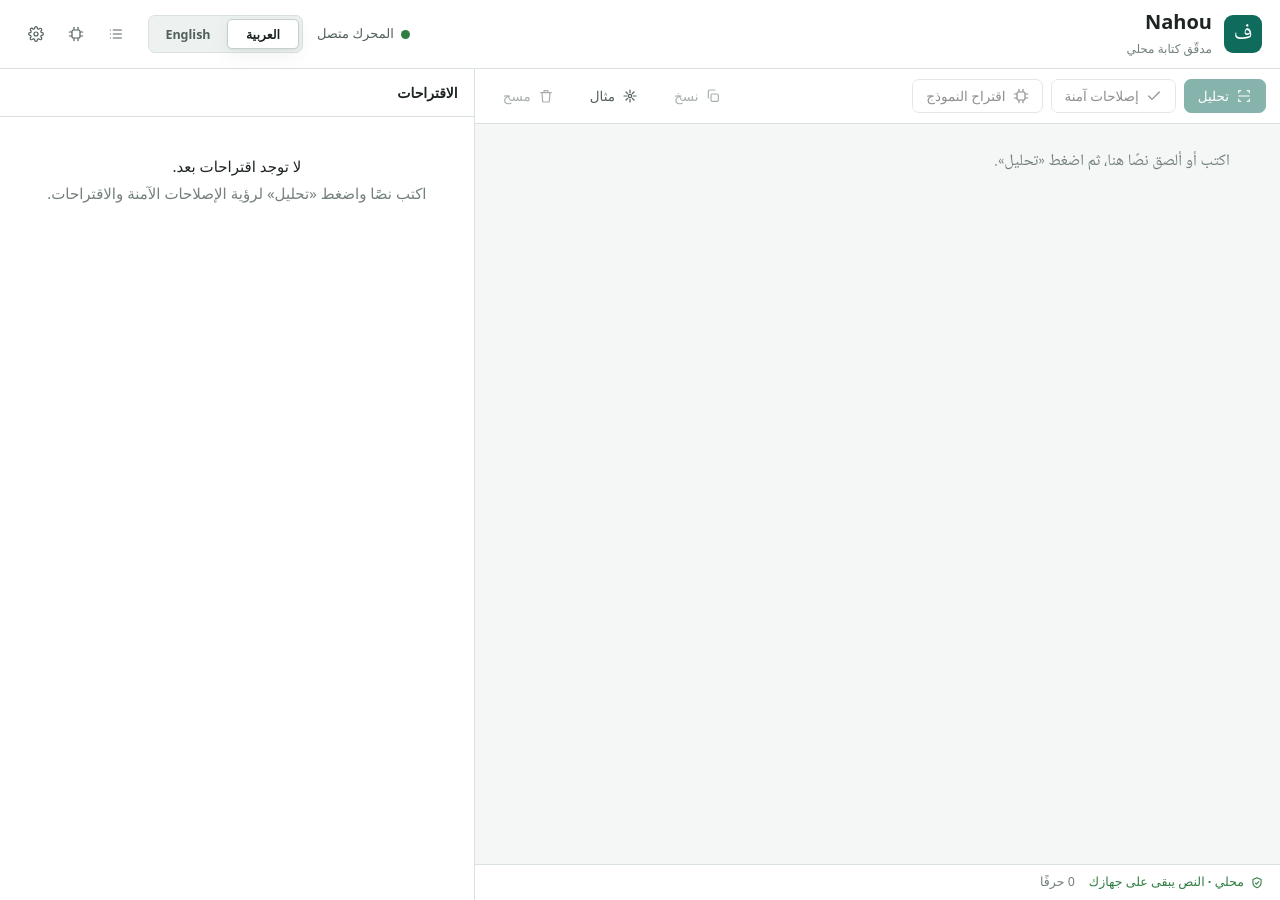
Scenario: UI language switch › switches all chrome to English when chosen, independent of editor text
The width and height of the screenshot is (1280, 900).
Expected: the button "تحليل" is shown, [1184,79,1266,113]
Note: Open Settings and choose English.
Click the button named "الإعدادات": (36, 34) [18,16,54,52]
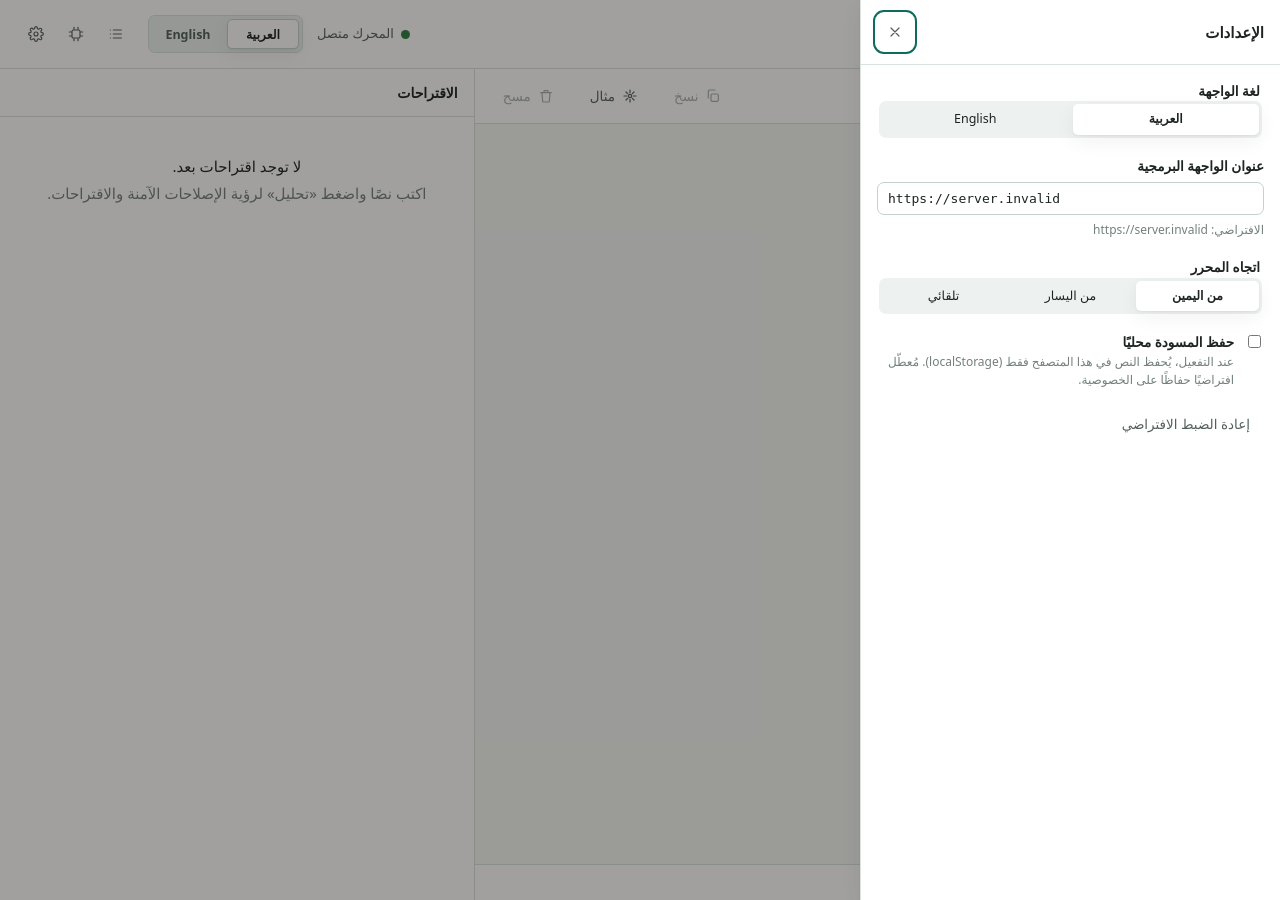
Click the radio button labelled "English": (975, 119) [954,110,996,127]
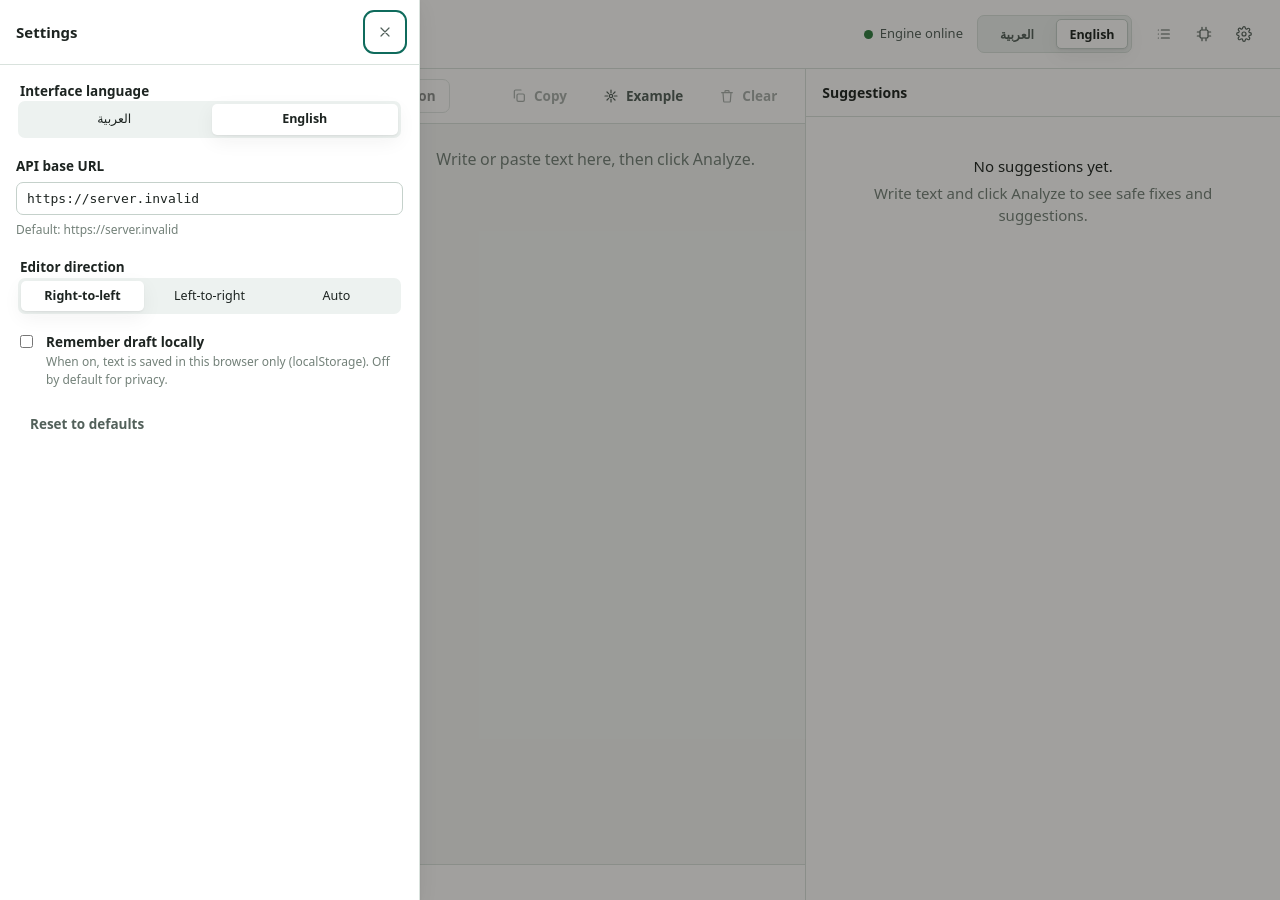
Expected: the button "Analyze" is shown, [14,79,118,113]
Expected: the heading "Suggestions" is shown, [822,82,907,103]
Expected: the text "API base URL" is shown, [16,157,104,175]
